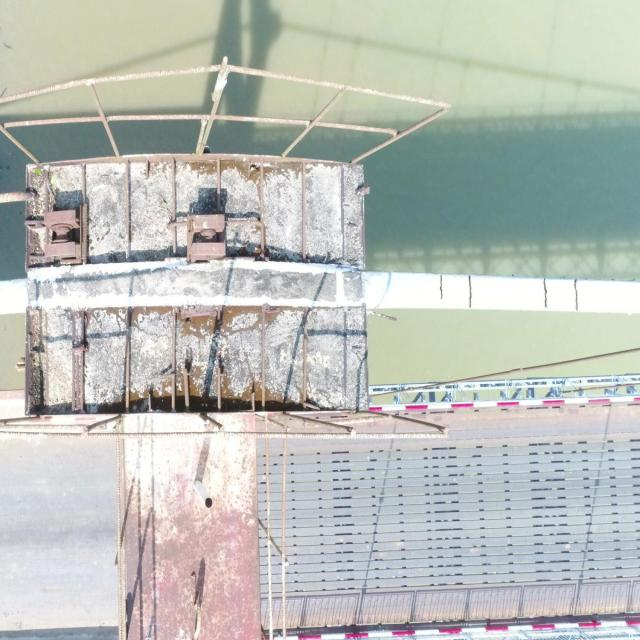crack: (542, 278, 548, 308), (468, 276, 472, 308), (574, 279, 578, 311), (439, 275, 444, 299)
